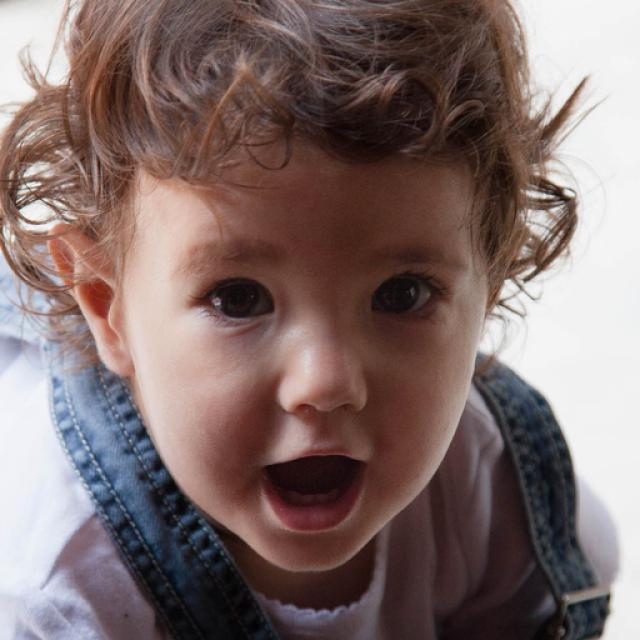surprise: (124, 146, 484, 574)
